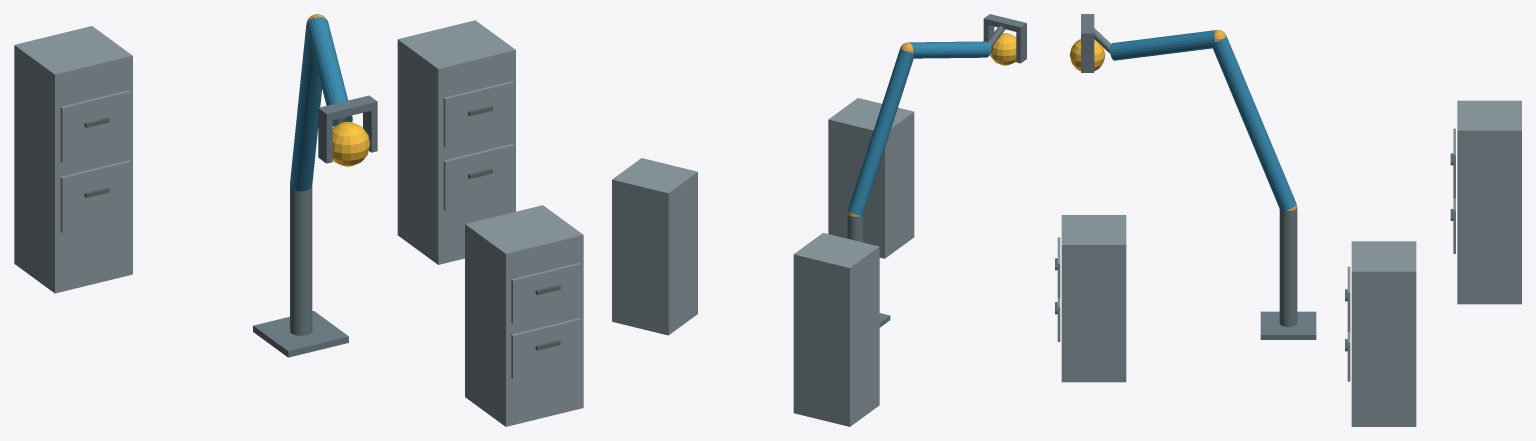
The picture shows the model from 3 angles, left to right: view 1: azimuth 30°, elevation 25°; view 2: azimuth 150°, elevation 25°; view 3: azimuth 270°, elevation 25°; orthographic projection. The views are drawn at different scales.
Parts seen in each view (by area): view 1: cabinet_3 body, cabinet_2 body, cabinet_1 body, cabinet_3 drawer front, cabinet_3 drawer front.001, cabinet_2 drawer front, cabinet_2 drawer front.001, fixed post, cabinet_1 drawer front, cabinet_1 drawer front.001, moving link 1, pedestal (+4 smaller); view 2: cabinet_3 body, cabinet_2 body, cabinet_1 body, moving link 1, moving link 2, ball ball_1, gripper bridge, fixed post; view 3: cabinet_3 body, cabinet_2 body, cabinet_1 body, moving link 1, fixed post, moving link 2, pedestal, ball ball_1, gripper finger 1.
Part boxes in pixels (<box>): cabinet_3 body: <box>14,26,132,293</box>; cabinet_2 body: <box>397,20,515,264</box>; cabinet_1 body: <box>465,205,583,426</box>; cabinet_3 drawer front: <box>60,160,130,232</box>; cabinet_3 drawer front.001: <box>60,90,130,162</box>; cabinet_2 drawer front: <box>443,144,513,210</box>; cabinet_2 drawer front.001: <box>443,81,513,147</box>; fixed post: <box>290,186,312,335</box>; cabinet_1 drawer front: <box>511,318,581,378</box>; cabinet_1 drawer front.001: <box>511,262,581,323</box>; moving link 1: <box>290,22,321,191</box>; pedestal: <box>253,311,348,357</box>; cabinet_3 body: <box>793,233,879,426</box>; cabinet_2 body: <box>612,158,697,335</box>; cabinet_1 body: <box>828,98,914,258</box>; moving link 1: <box>848,48,913,215</box>; moving link 2: <box>909,41,991,58</box>; ball ball_1: <box>990,33,1016,65</box>; gripper bridge: <box>983,14,1026,32</box>; fixed post: <box>847,213,863,242</box>; cabinet_3 body: <box>1457,100,1521,304</box>; cabinet_2 body: <box>1351,241,1416,426</box>; cabinet_1 body: <box>1061,215,1126,382</box>; moving link 1: <box>1212,36,1296,210</box>; fixed post: <box>1279,208,1297,326</box>; moving link 2: <box>1110,30,1216,60</box>; pedestal: <box>1260,311,1316,339</box>; ball ball_1: <box>1069,39,1105,70</box>; gripper finger 1: <box>1081,39,1094,72</box>.
Bounding box in the file's own units: 1.62 × 1.42 × 2.1.
